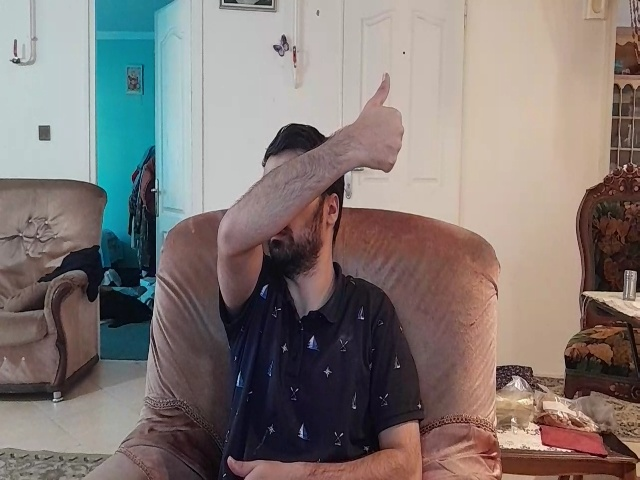ThumbsUp: (348, 73, 404, 178)
